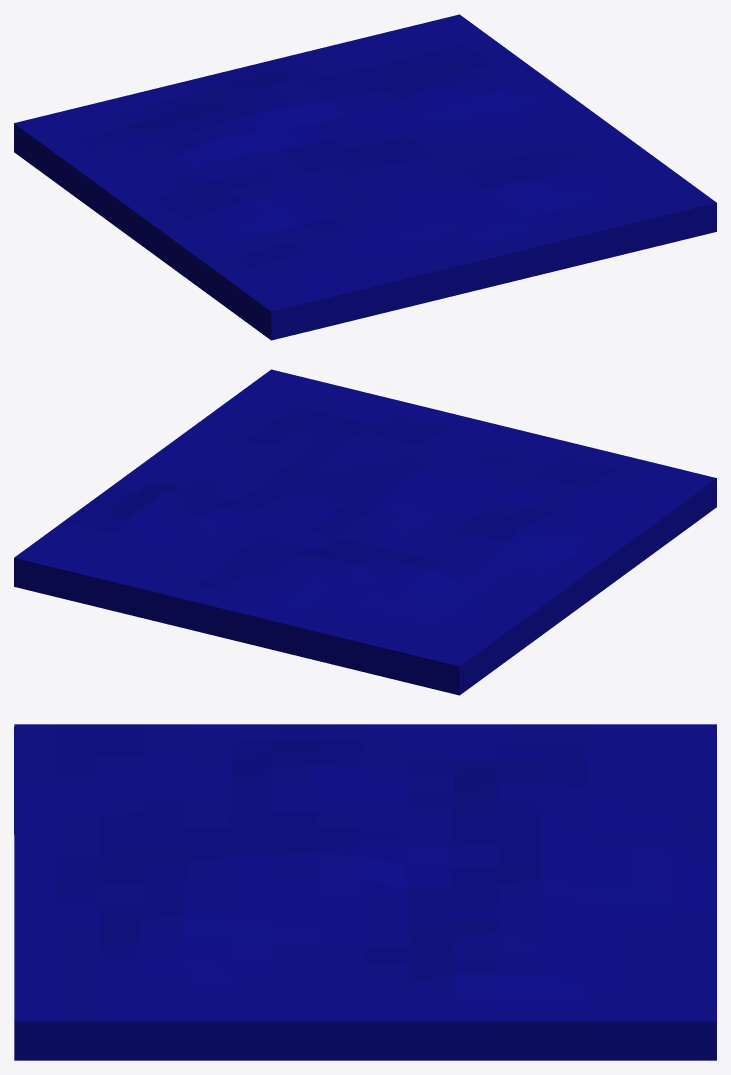
The model's file is Water2.FBX.
3 views of the same model, one above another, from view 1: azimuth 30°, elevation 25°; view 2: azimuth 150°, elevation 25°; view 3: azimuth 270°, elevation 25° (orthographic). The views are drawn at different scales.
Visible parts, largest first — view 1: Terrain.046; view 2: Terrain.046; view 3: Terrain.046.
Boxes of the visible parts, box(x1,y1,x2,y2) form: Terrain.046: box(14, 14, 716, 340); Terrain.046: box(14, 369, 716, 695); Terrain.046: box(14, 724, 716, 1060).
Bounding box in the file's own units: 800 × 800 × 73.49.
